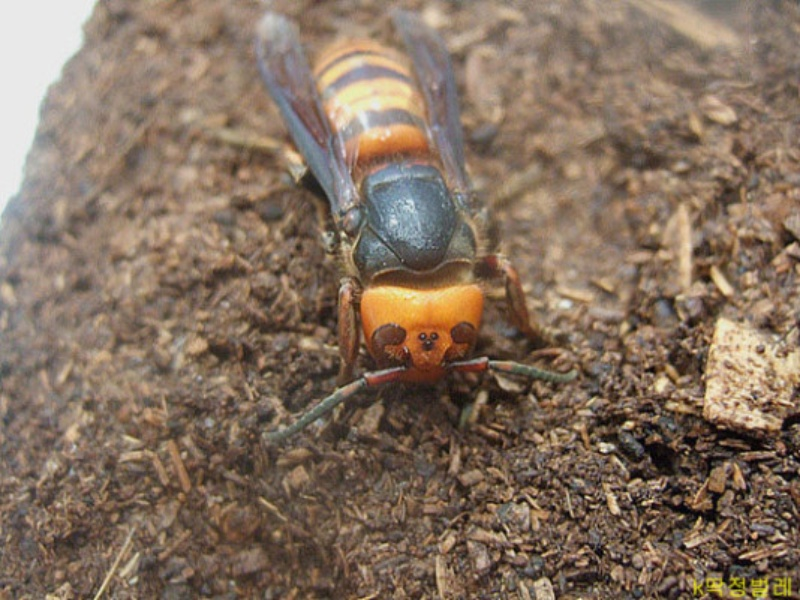asian_giant_hornet: (250, 10, 548, 410)
